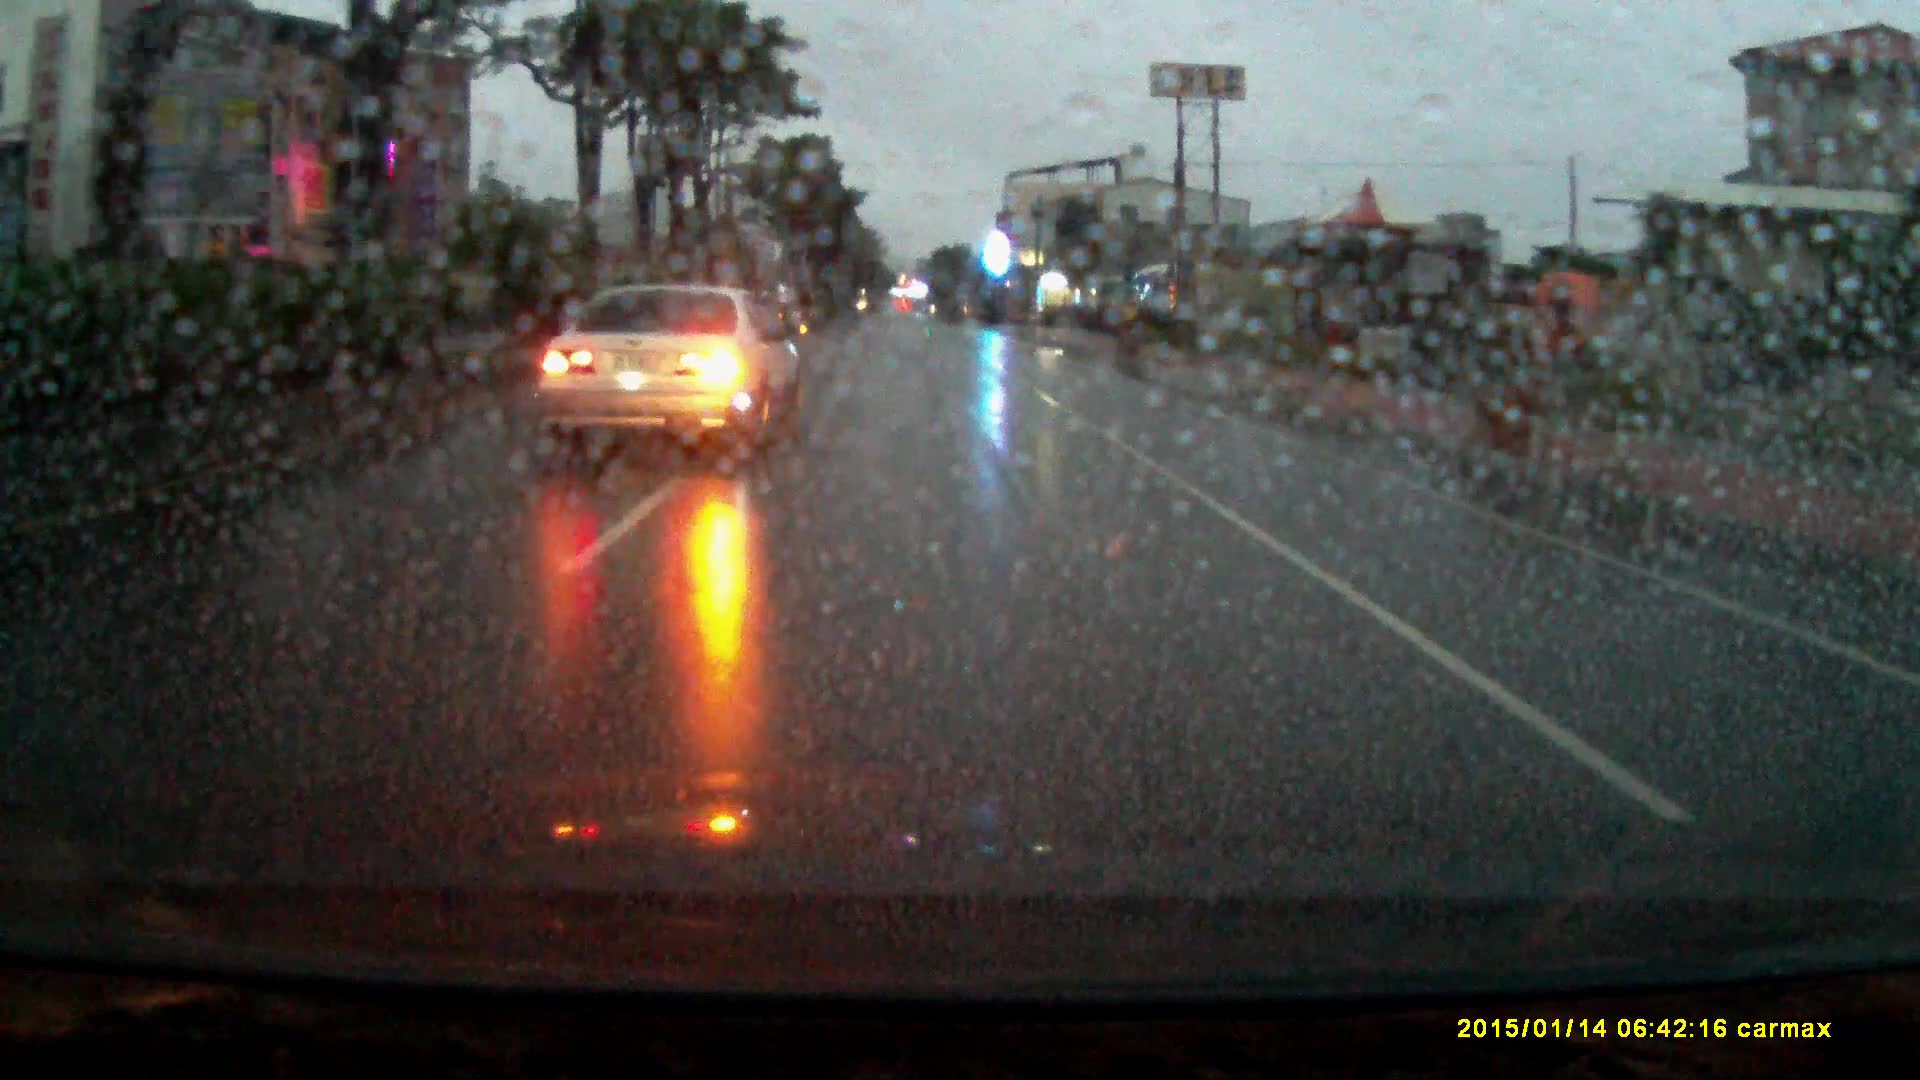pedestrian: (1523, 267, 1619, 471)
vehicle: (531, 286, 808, 468)
